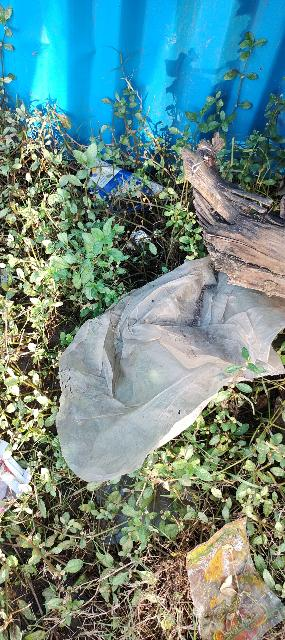polythene: (51, 227, 285, 485)
